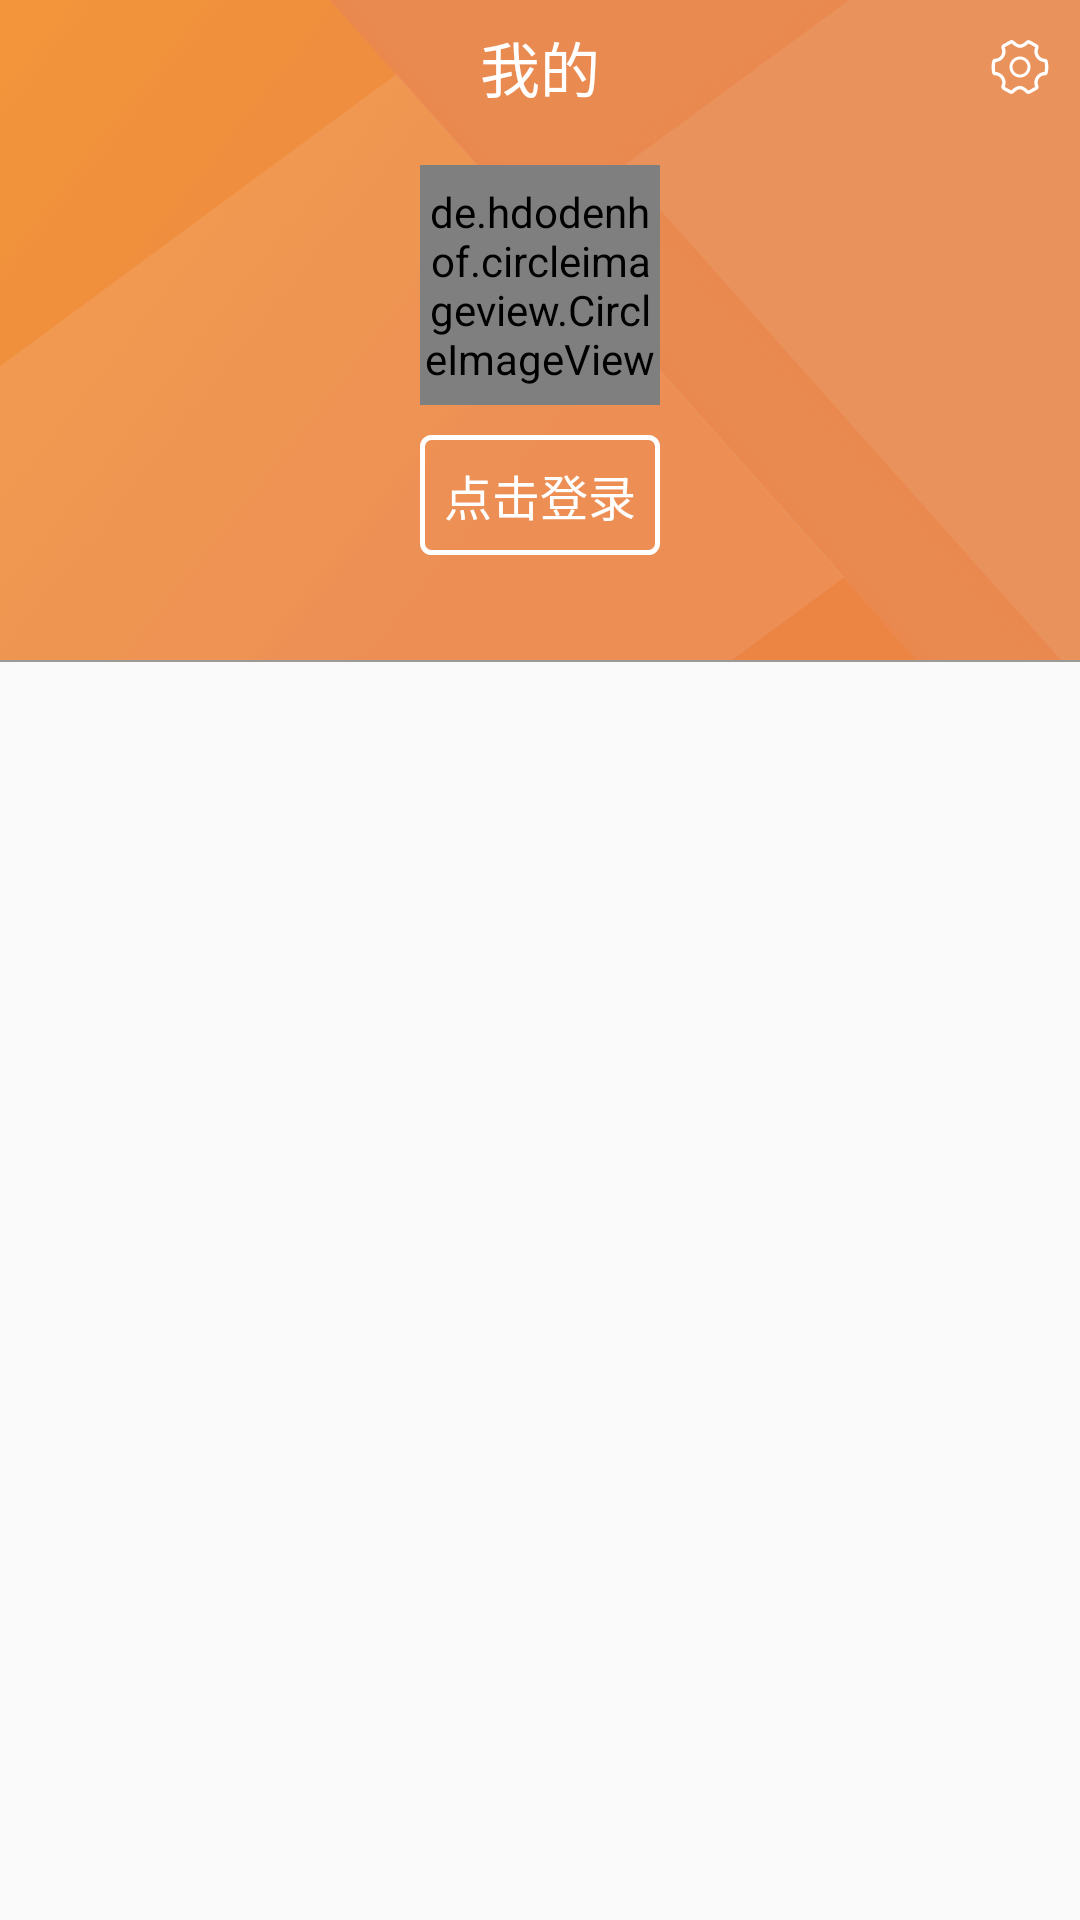

Named icons in this screenshot (1080 x 1920) and their centers, [x,y]:
setting: [1020,67]
